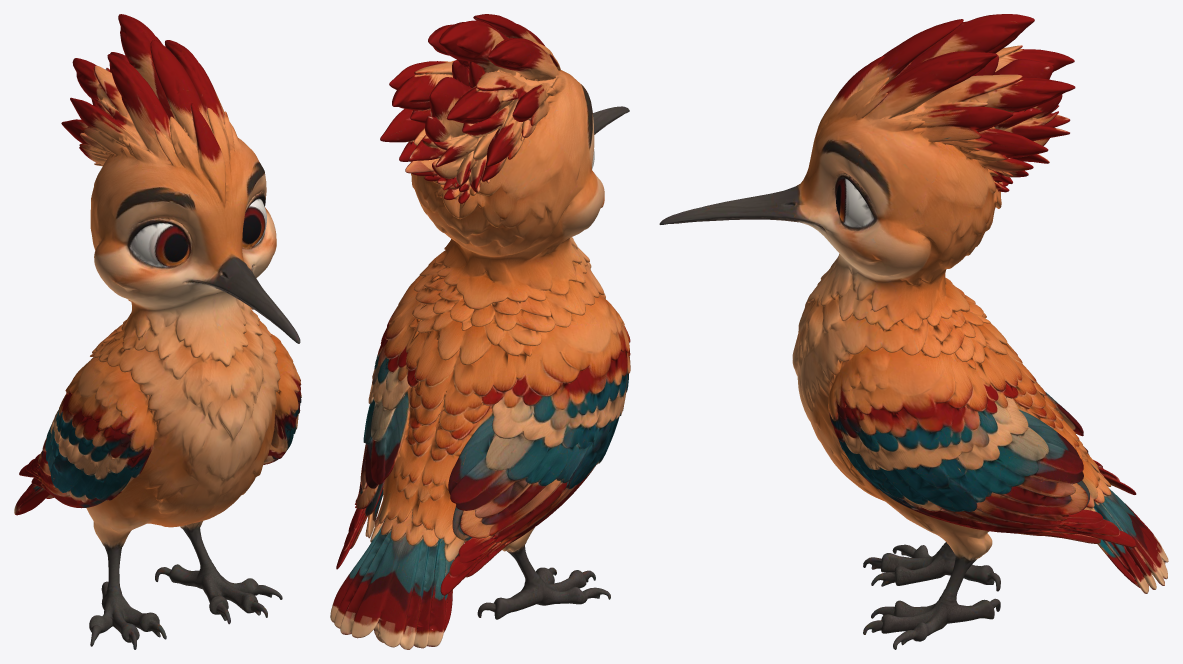
File: hoopoe-hq.glb
3 views of the same model, side by side, from view 1: azimuth 30°, elevation 25°; view 2: azimuth 150°, elevation 25°; view 3: azimuth 270°, elevation 25° (orthographic). The views are drawn at different scales.
Size of the model in its own units: 0.7574 by 1.9 by 1.49.
1 material, 1 textured.
